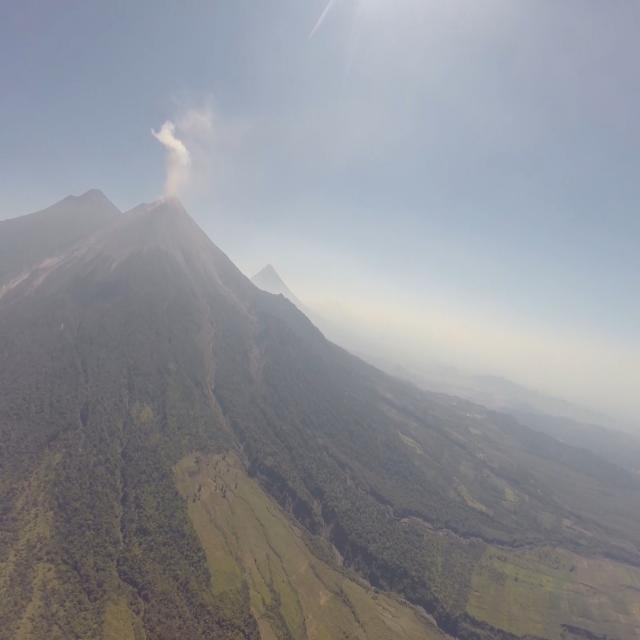Plume: (152, 119, 192, 203)
Summit: (150, 192, 188, 212)
